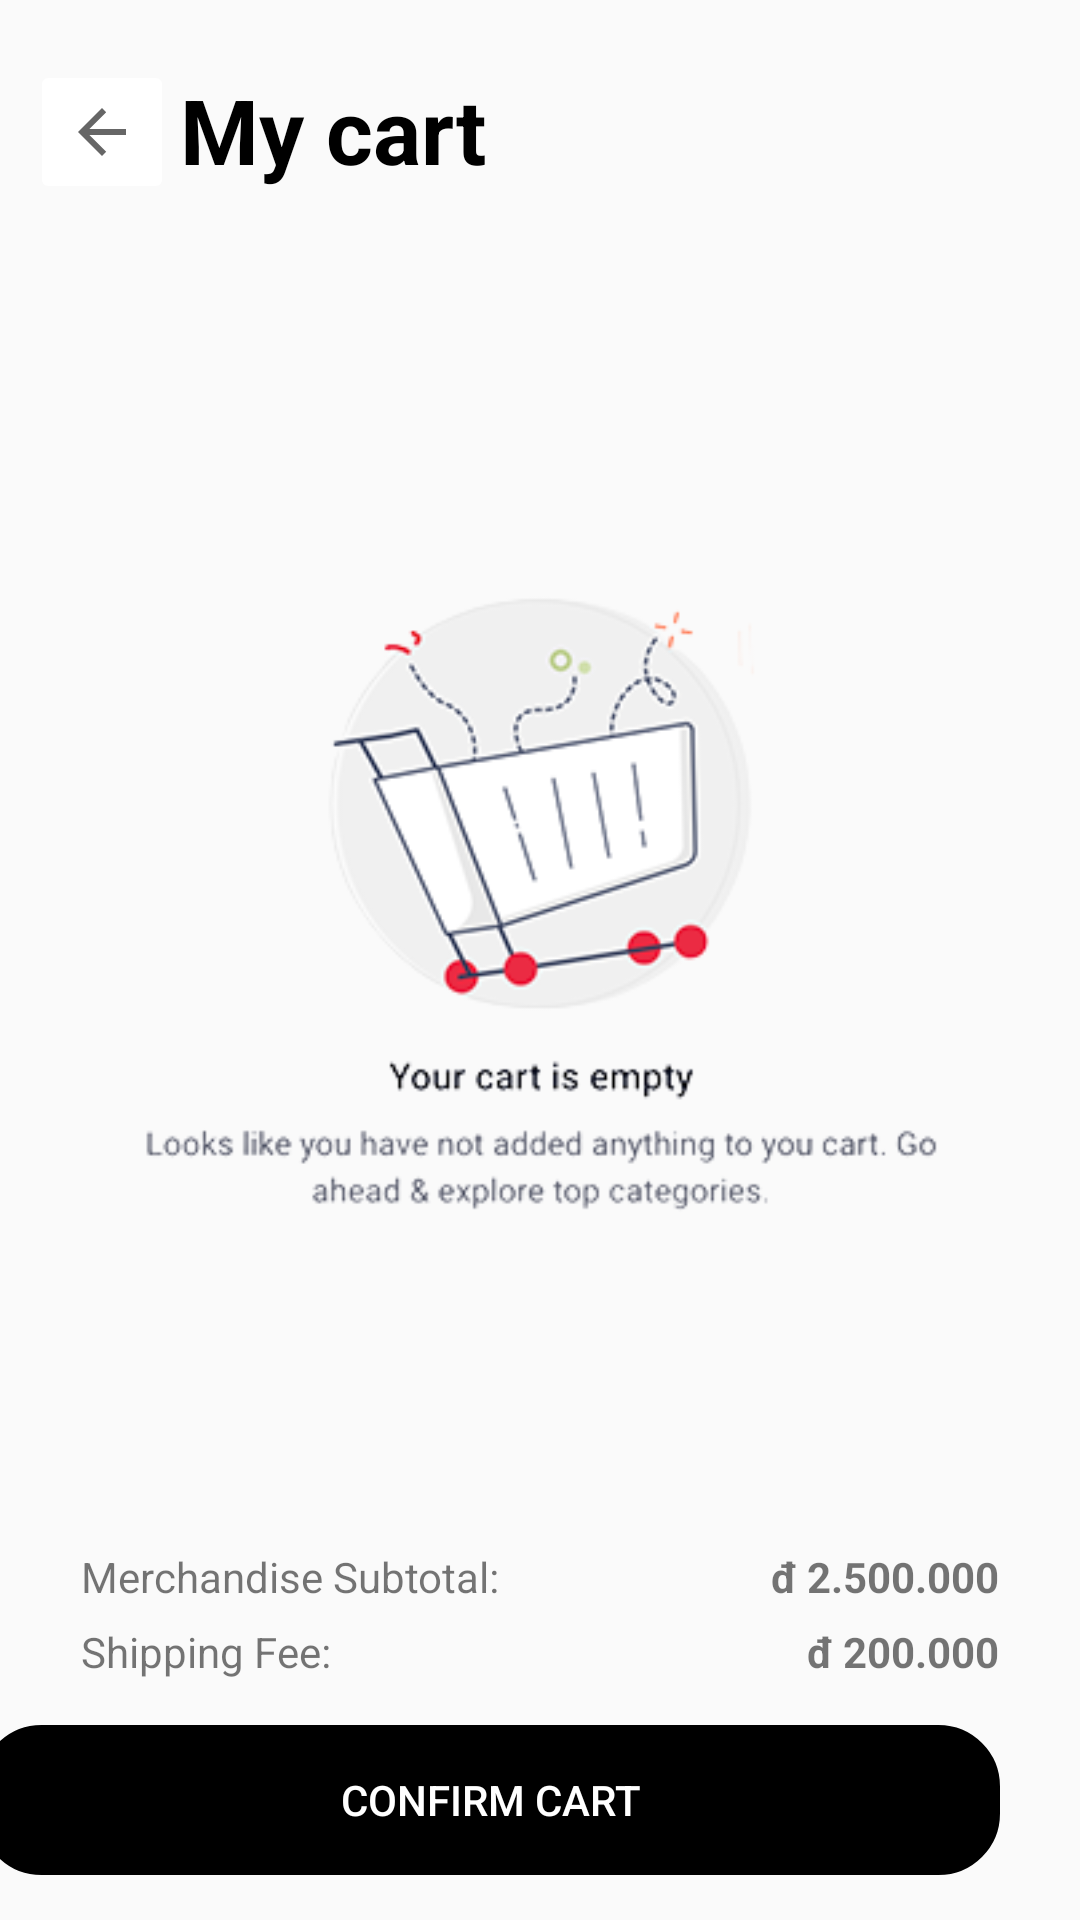

Where to tap for icons on this 1080×1920 app screen, as (x,y):
Back to Home Page: (102,132)
